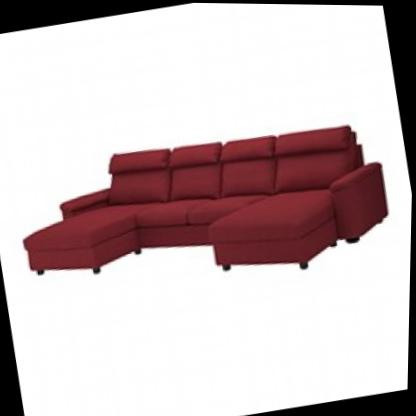Sofa: (3, 89, 404, 329)
